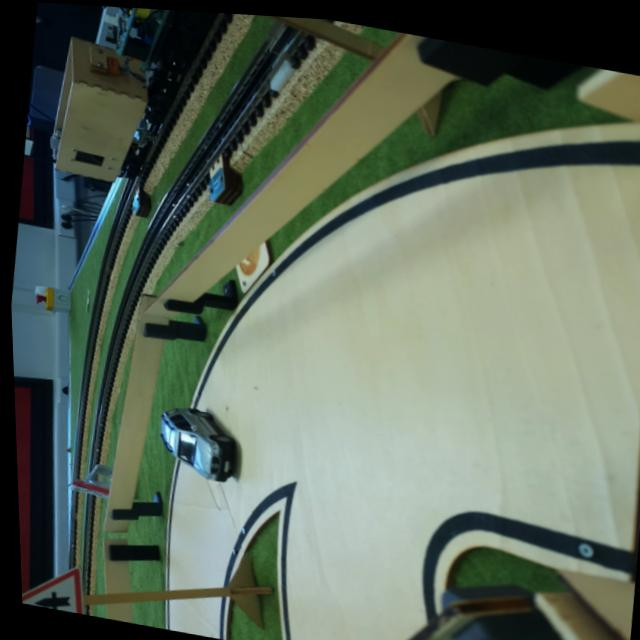obstacle_voiture: (139, 390, 258, 487)
panneau_intersection: (20, 553, 106, 617)
